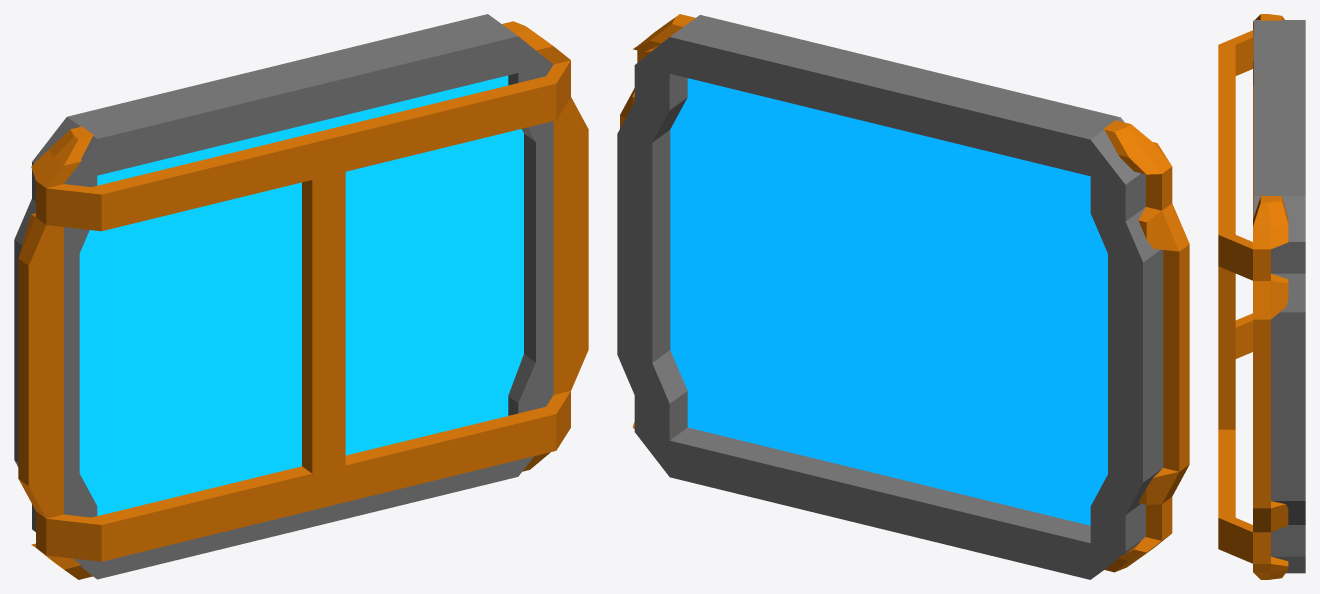
The model's file is DisplayScreenMedium_1.glb.
3 renders of one model, left to right at view 1: azimuth 30°, elevation 25°; view 2: azimuth 150°, elevation 25°; view 3: azimuth 270°, elevation 25°, orthographic. The views are drawn at different scales.
Parts seen in each view (by area): view 1: Screen, Frame1, Frame0; view 2: Screen, Frame0, Frame1; view 3: Frame1, Frame0.
Boxes of the visible parts, bbox=[...] form: Screen: bbox=[79, 75, 523, 515]; Frame1: bbox=[18, 21, 588, 579]; Frame0: bbox=[14, 14, 553, 579]; Screen: bbox=[670, 78, 1107, 525]; Frame0: bbox=[617, 15, 1163, 579]; Frame1: bbox=[620, 14, 1189, 572]; Frame1: bbox=[1218, 14, 1288, 579]; Frame0: bbox=[1253, 20, 1305, 573].
Size of what is drawn, in the model's own units: 3.19 by 2.4 by 0.5021.
